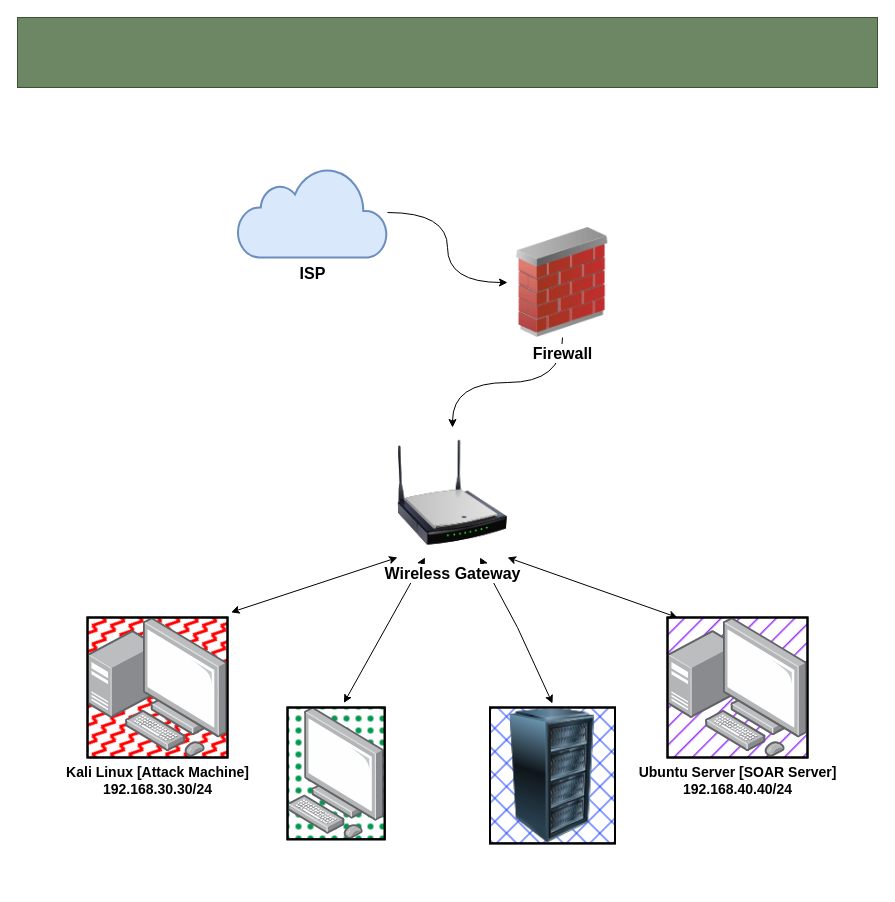
Image size: 895x902. Some labels were removed from this diagram. Here are the shapes that lost their labels. From the top down, the centre of each, then its label:
At point 447,52: "Cybersecurity Homelab - Network Topology Diagram".
At point 335,773: "Windows 11 Home [End User] 192.168.20.20/24".
At point 552,775: "Ubuntu Server [WAZUH SIEM] 192.168.10.10/24".
